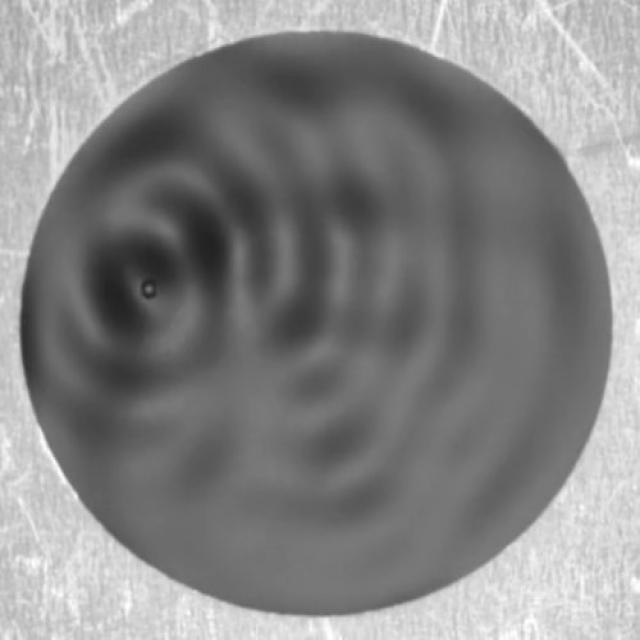droplet: (140, 277, 160, 301)
